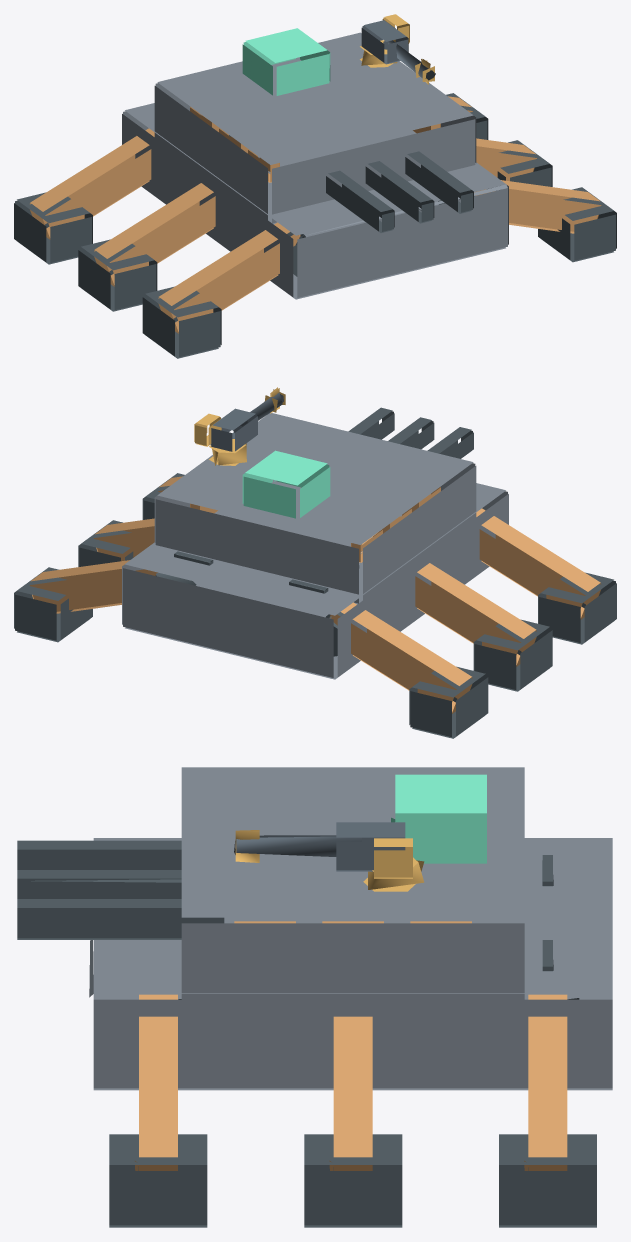
File: boss-walker.glb
The picture shows the model from 3 angles, top to bottom: view 1: azimuth 30°, elevation 25°; view 2: azimuth 150°, elevation 25°; view 3: azimuth 270°, elevation 25°; orthographic projection. The views are drawn at different scales.
Parts seen in each view (by area): view 1: Carapace, Chassis, Cannon, Strut, Strut.004, Strut.002, Core, Foot, Foot.002, Foot.004, Strut.001, Foot.001 (+5 smaller); view 2: Carapace, Chassis, Strut.004, Strut, Strut.002, Core, Foot.004, Foot.002, Foot, Strut.005, Foot.005, Cannon (+6 smaller); view 3: Carapace, Chassis, Cannon, Foot.003, Foot.001, Foot.005, Core, Strut.005, Strut.001, Strut.003, Auxiliary receiver, Auxiliary swivel (+1 smaller).
Part boxes in pixels (x1,y1,x2,y2): Carapace: (154, 32, 476, 224); Chassis: (122, 103, 508, 299); Cannon: (326, 151, 473, 232); Strut: (158, 222, 300, 333); Strut.004: (30, 128, 154, 239); Strut.002: (94, 183, 215, 286); Core: (242, 28, 330, 95); Foot: (142, 232, 305, 358); Foot.002: (78, 239, 157, 311); Foot.004: (14, 192, 92, 264); Strut.001: (474, 180, 601, 233); Foot.001: (438, 187, 616, 262); Carapace: (154, 413, 476, 604); Chassis: (122, 483, 508, 679); Strut.004: (329, 602, 472, 713); Strut: (476, 508, 601, 619); Strut.002: (415, 563, 536, 666); Core: (242, 450, 330, 518); Foot.004: (326, 612, 488, 738); Foot.002: (473, 619, 552, 691); Foot: (538, 572, 616, 644); Strut.005: (29, 560, 157, 613); Foot.005: (14, 567, 196, 642); Cannon: (348, 407, 473, 458); Carapace: (181, 767, 524, 999); Chassis: (89, 838, 612, 1090); Cannon: (17, 840, 224, 939); Foot.003: (304, 1134, 402, 1227); Foot.001: (109, 999, 207, 1227); Foot.005: (499, 998, 596, 1227); Core: (391, 774, 486, 863); Strut.005: (524, 994, 567, 1170); Strut.001: (135, 994, 177, 1170); Strut.003: (329, 1016, 372, 1170); Auxiliary receiver: (236, 822, 405, 871); Auxiliary swivel: (235, 830, 424, 891).
Size of the model in its own units: 6.15 by 2.57 by 4.8.
